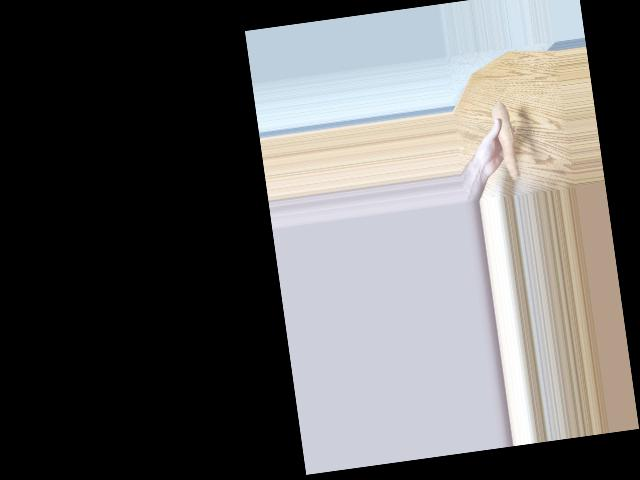sweet_potato: (493, 102, 522, 184)
